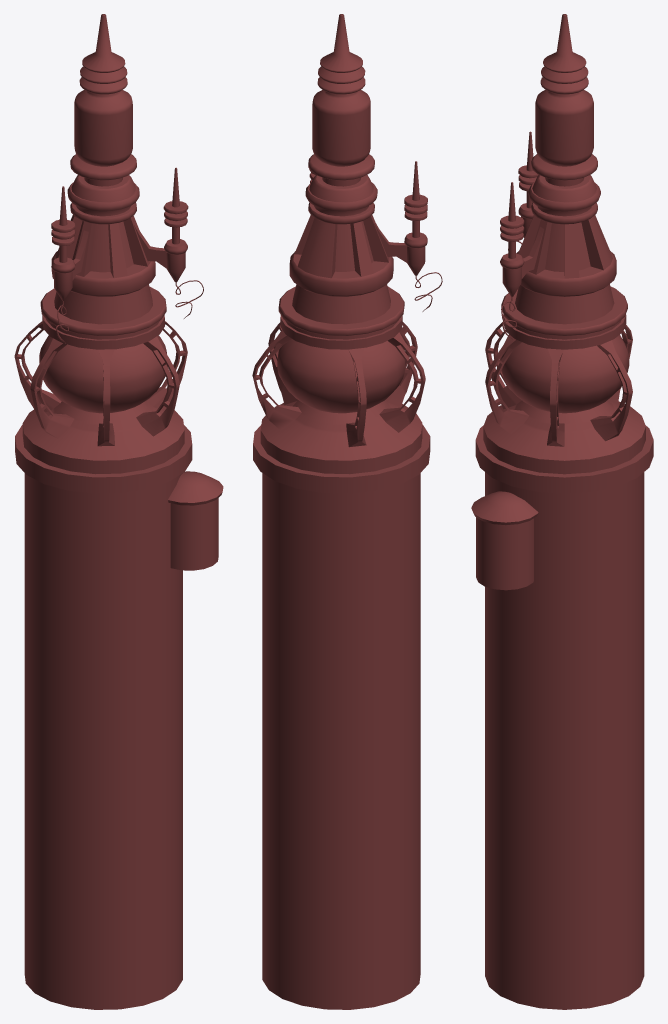
File: Machine 1.fbx
The picture shows the model from 3 angles, left to right: view 1: azimuth 30°, elevation 25°; view 2: azimuth 150°, elevation 25°; view 3: azimuth 270°, elevation 25°; orthographic projection.
Parts seen in each view (by area): view 1: Machine; view 2: Machine; view 3: Machine.
Part boxes in pixels (left/top/right/bottom): Machine: left=14, top=14, right=223, bottom=1009; Machine: left=252, top=14, right=442, bottom=1009; Machine: left=471, top=14, right=653, bottom=1009.
Size of the model in its own units: 2.27 by 12.72 by 2.19.
